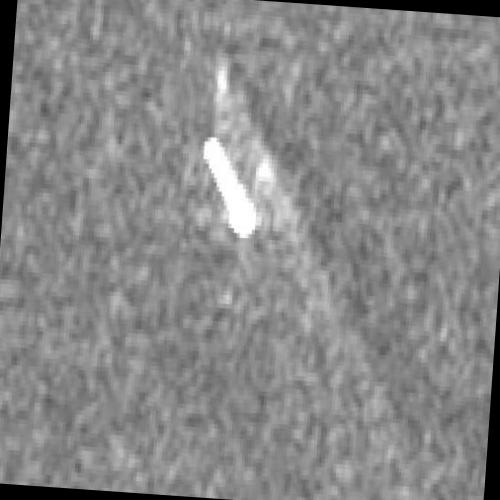ship: (202, 134, 258, 239)
